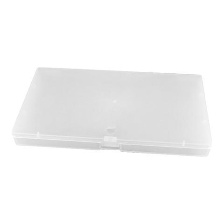plastic_box: (7, 60, 217, 161)
